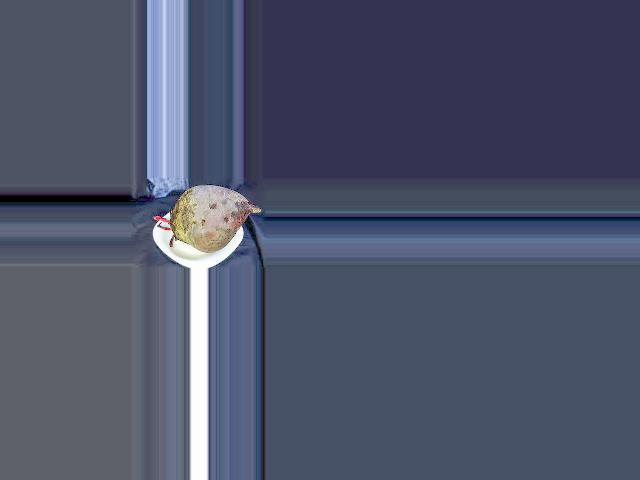beet: (153, 186, 260, 252)
